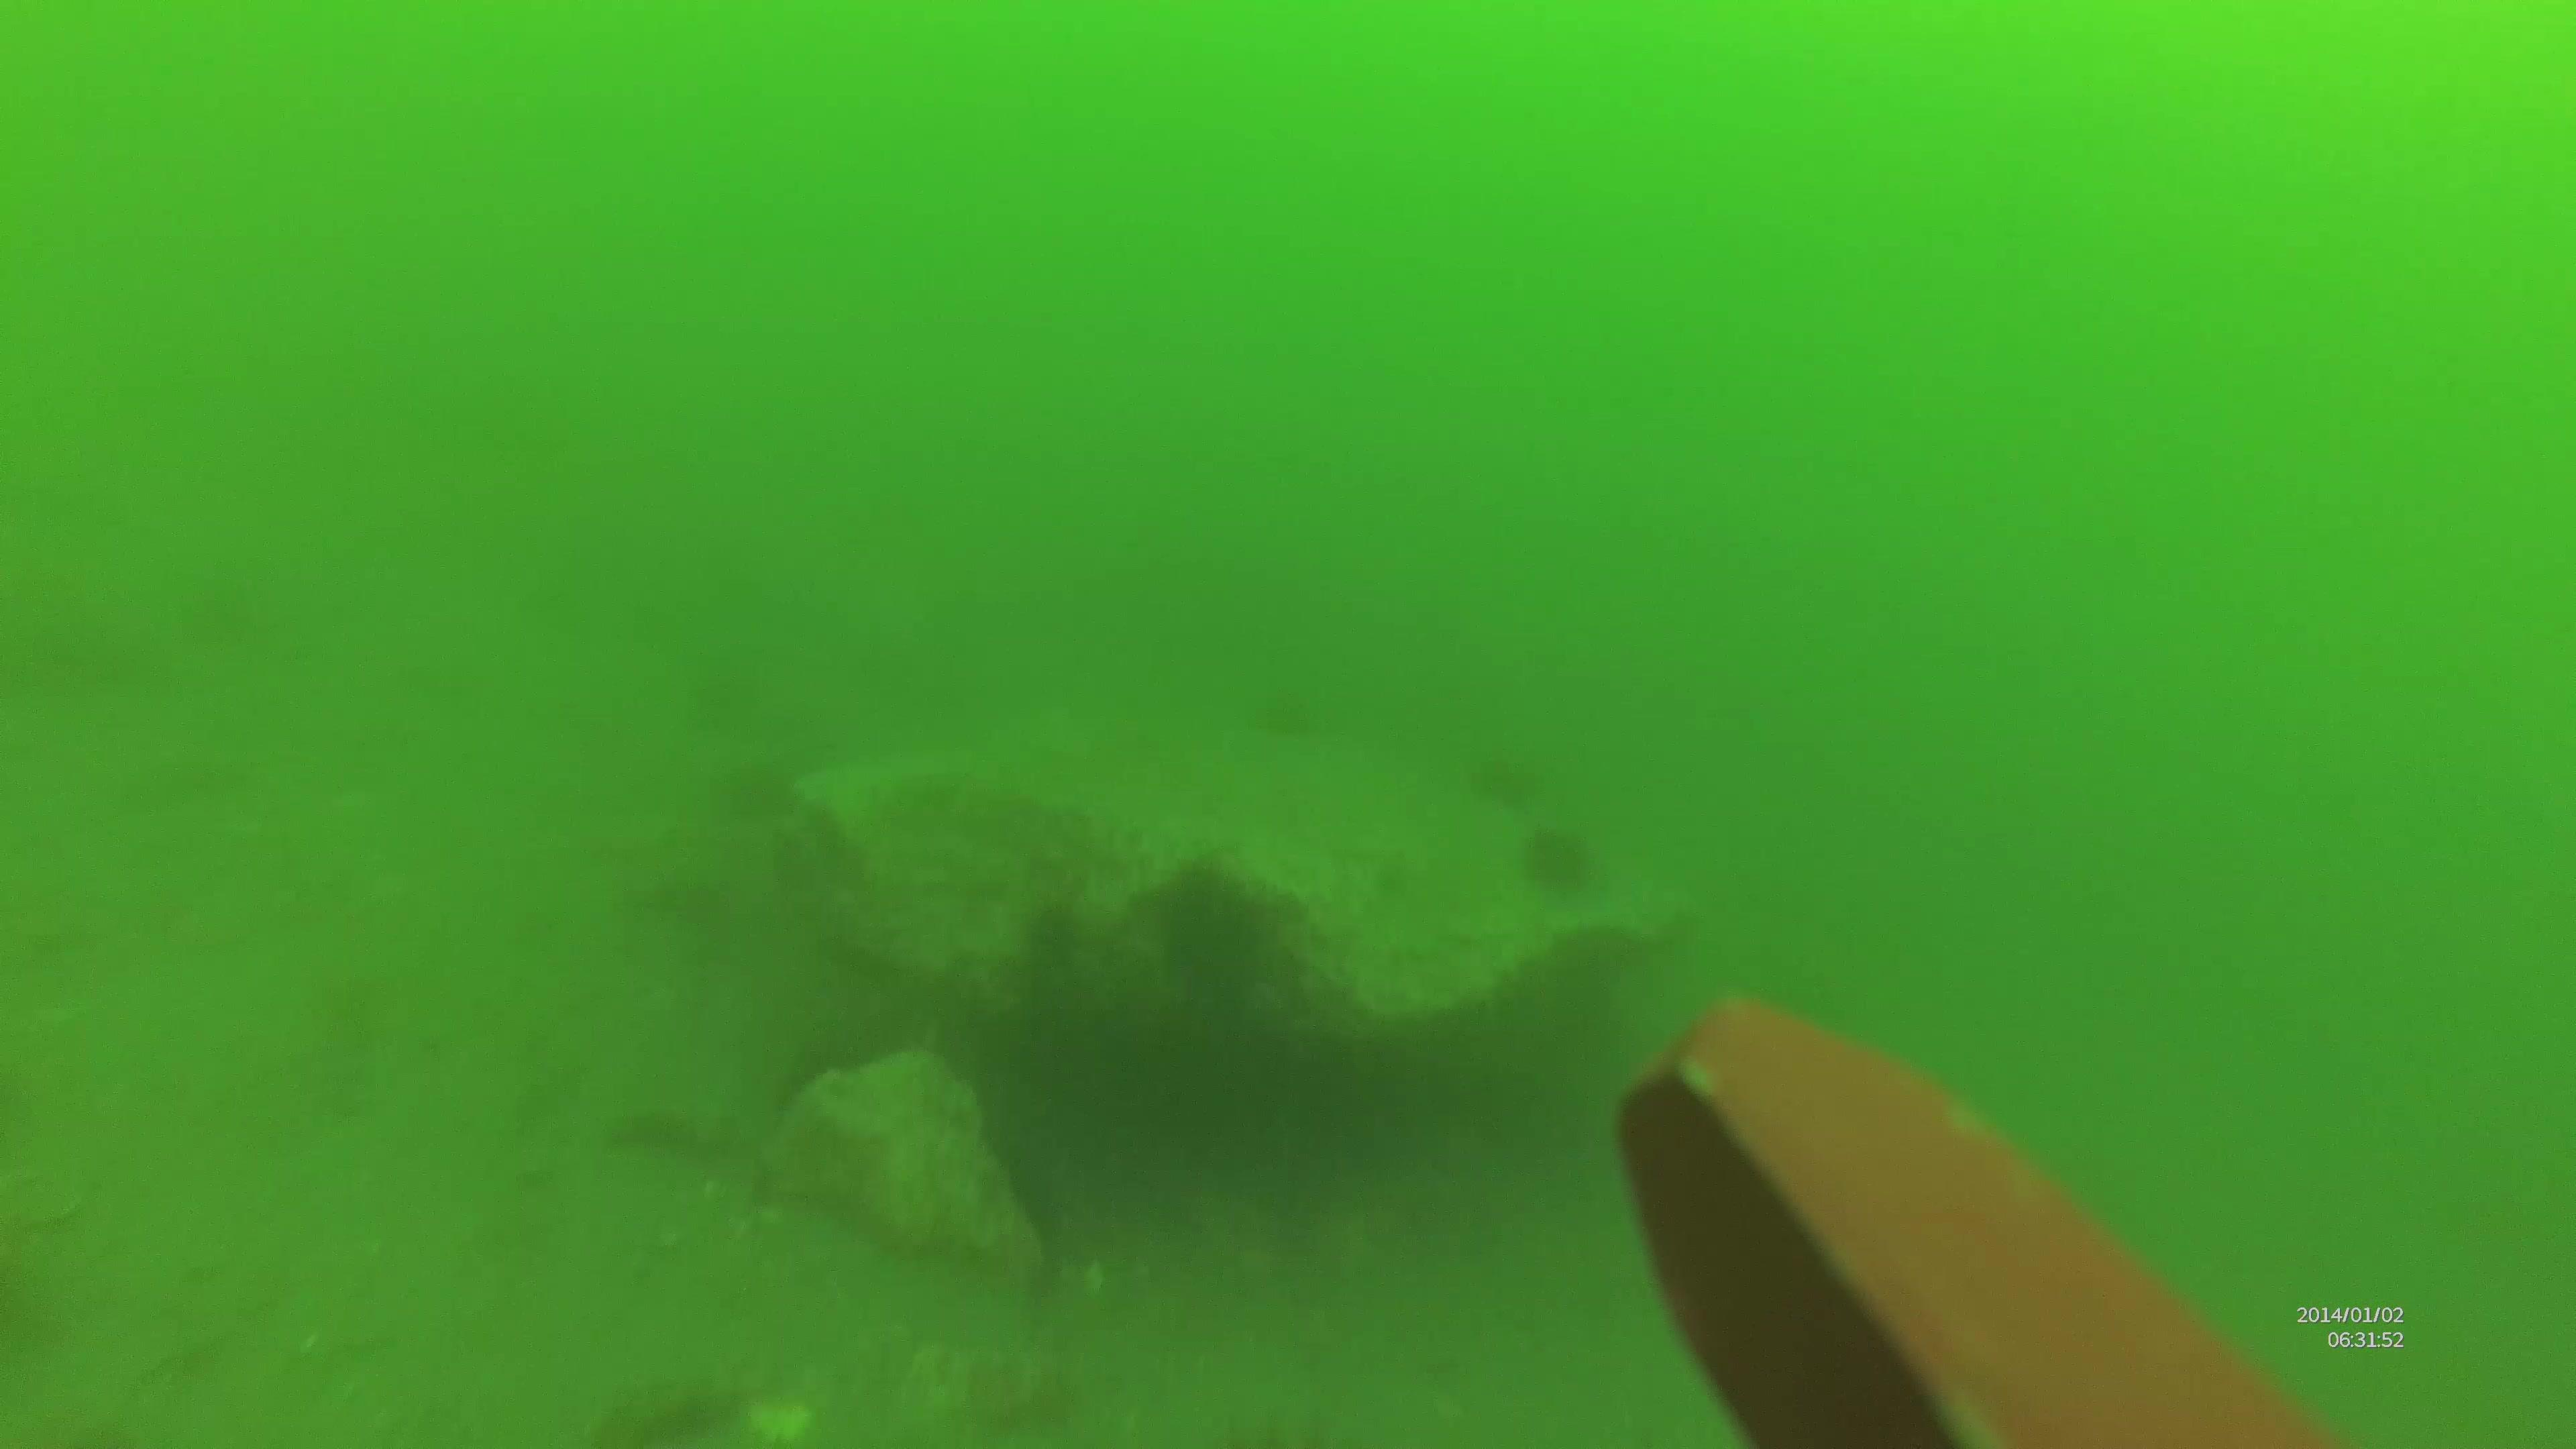echinus: (1518, 824, 1583, 893)
